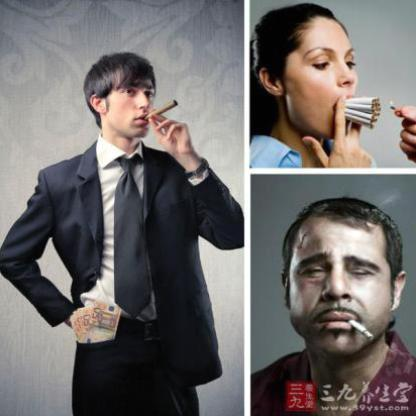cigarette: (144, 98, 180, 122), (348, 322, 376, 340), (346, 110, 376, 123), (344, 97, 378, 106)
person: (33, 47, 207, 415), (266, 199, 416, 415), (248, 4, 362, 172)
